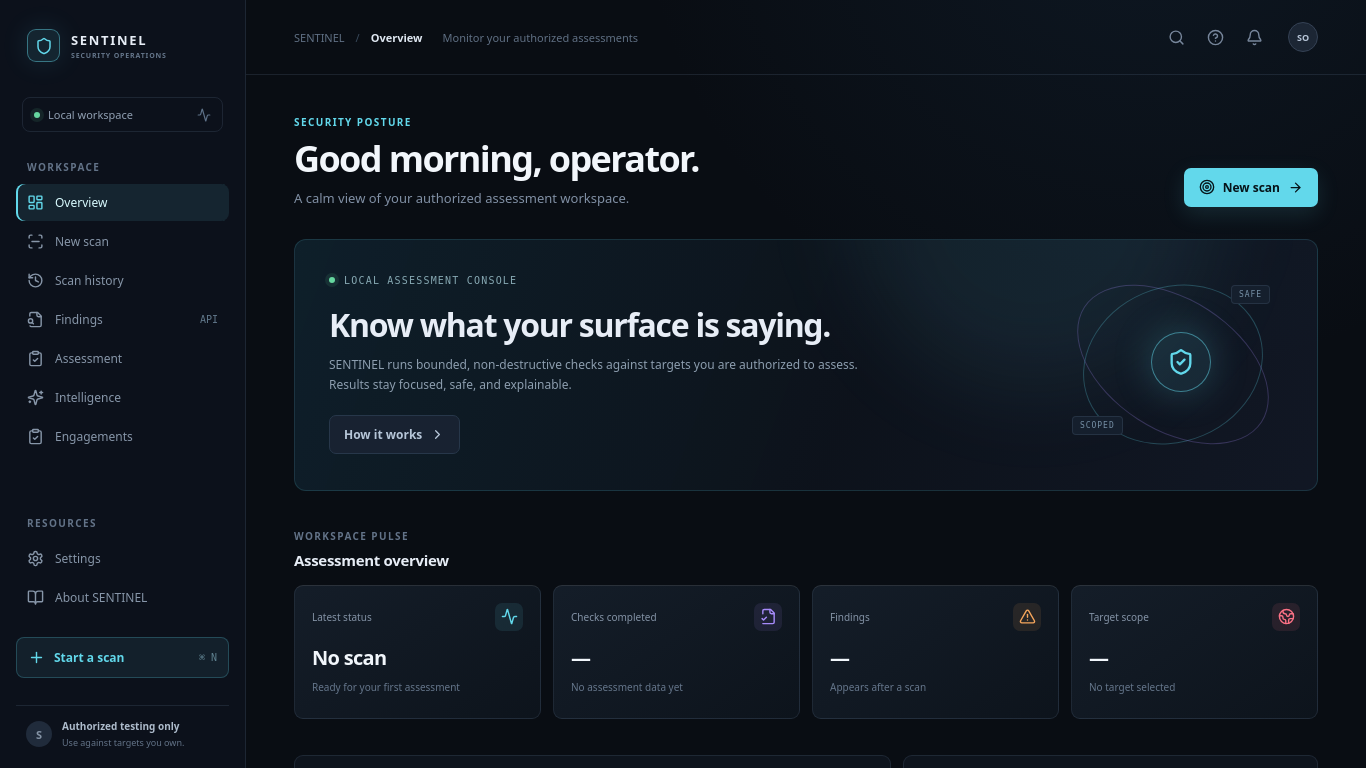
Scenario: SENTINEL dashboard flows › filters findings and supports cancellation only for active scans
Click the button "New scan" below "Local workspace".
click(122, 242)  # box [16,223,229,260]
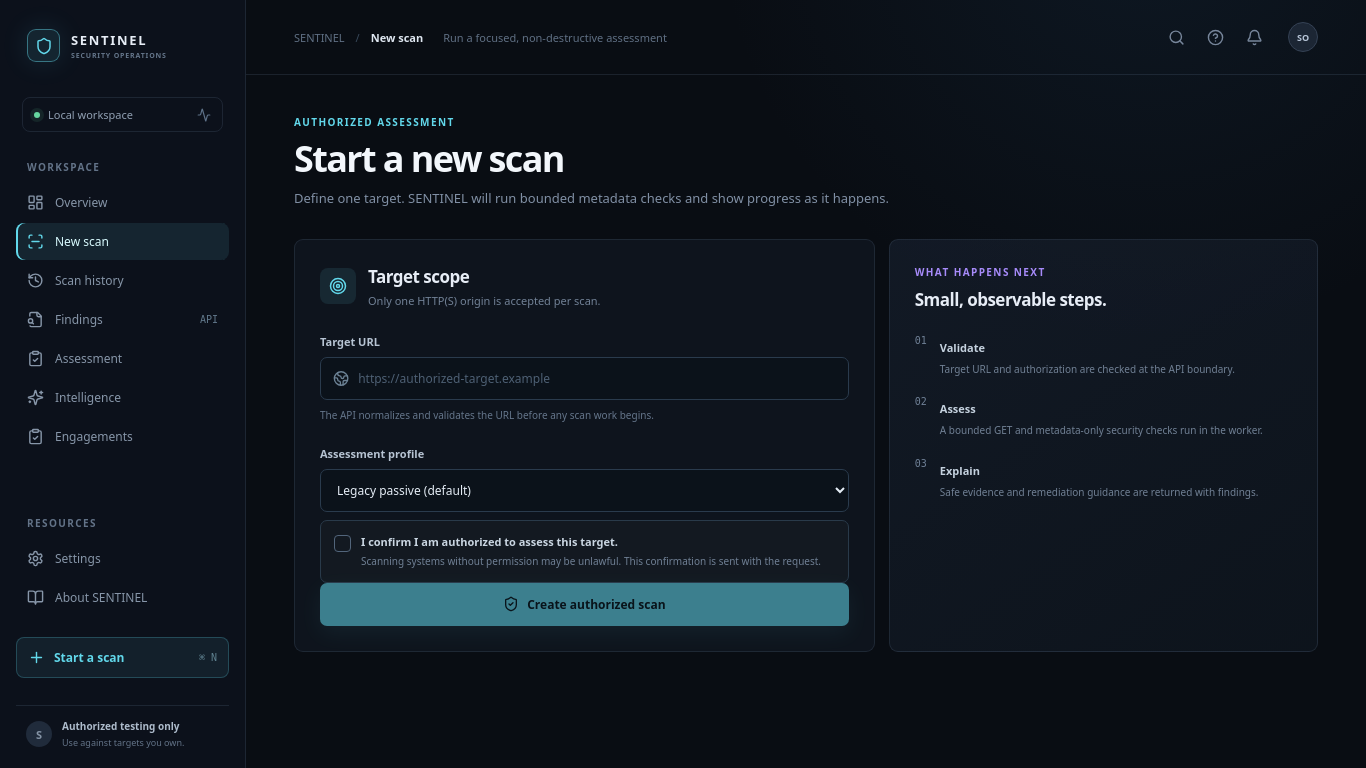
Type "https://controlled.fixture/" into the field labelled "Target URL".
click(597, 378); type("https://controlled.fixture/")  # box [358,358,836,399]
Click the checkbox.
click(584, 551)  # box [320,520,849,583]
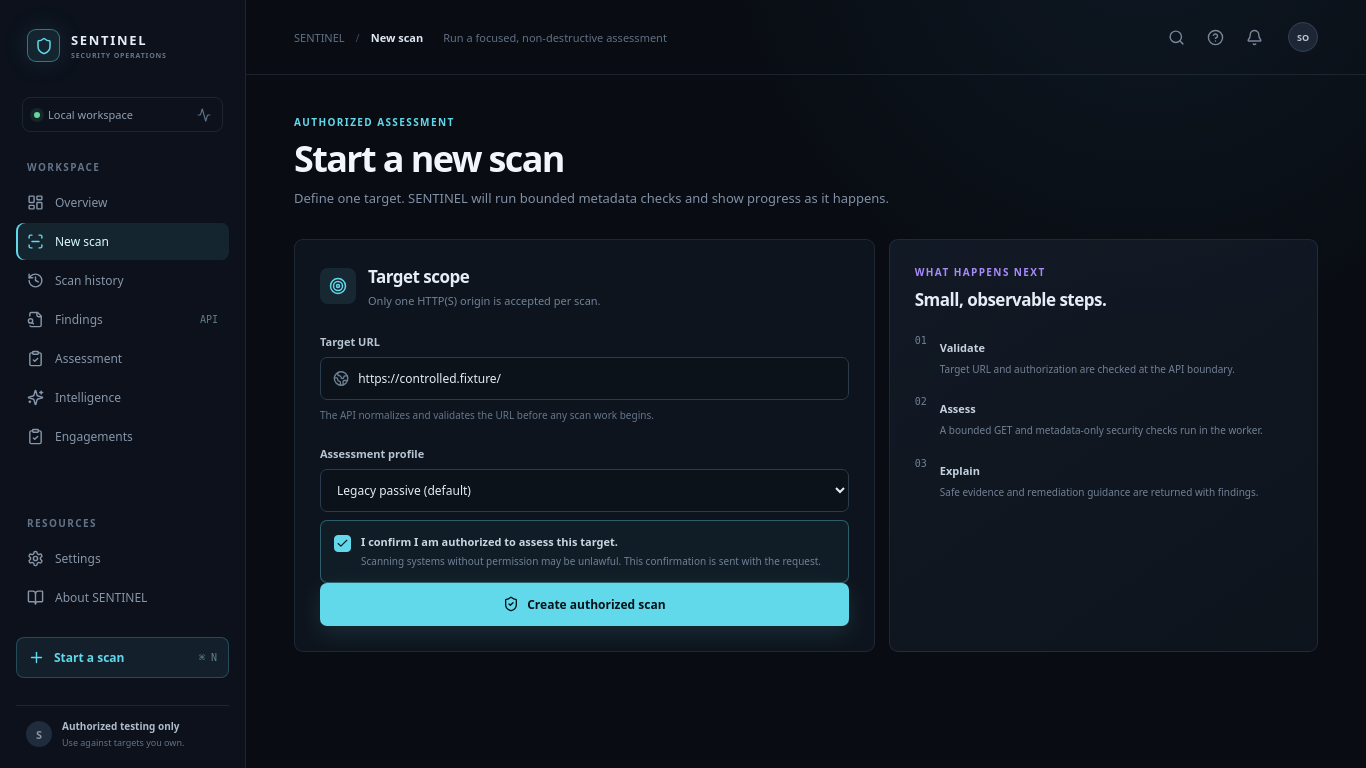
Click the button "Create authorized scan".
click(584, 604)  # box [320,583,849,626]
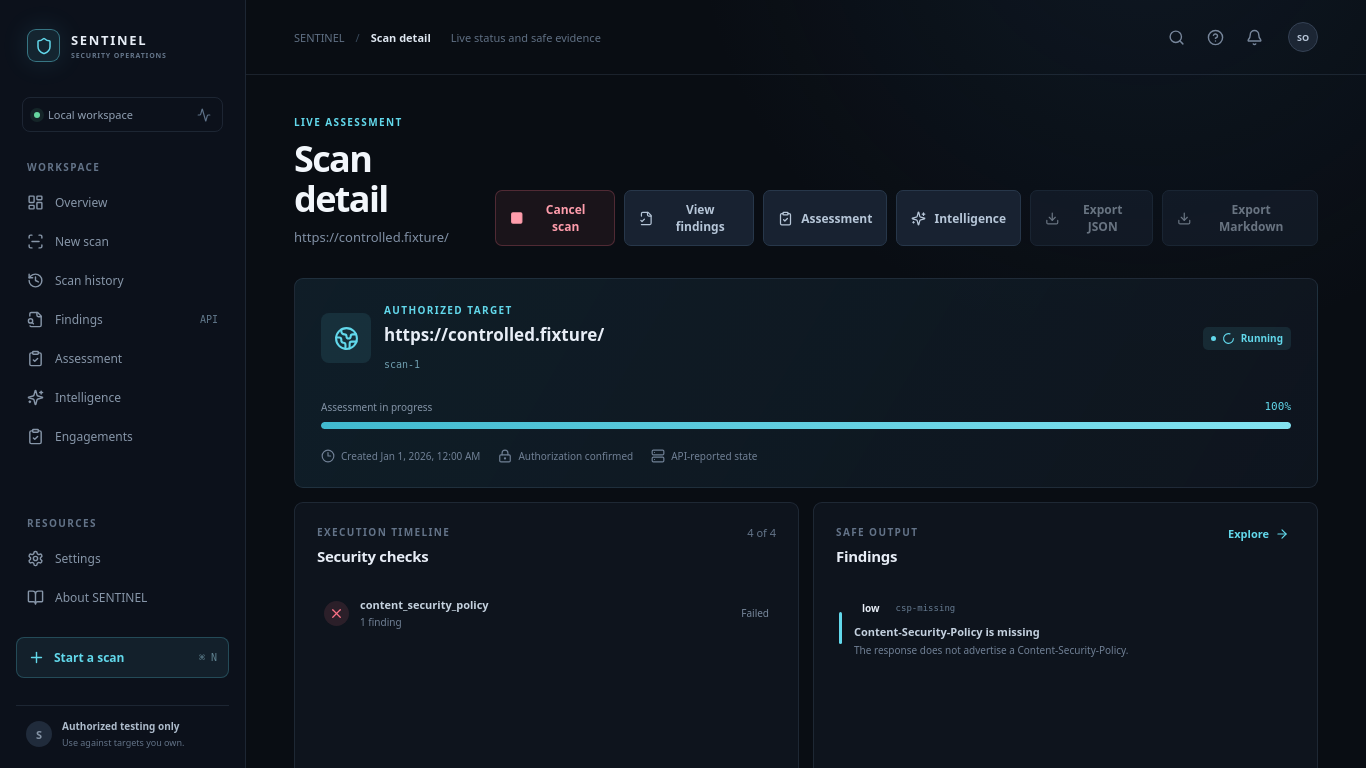
Expected: the button "Cancel scan" is shown
Click the button "Cancel scan".
click(555, 218)  # box [495,190,615,246]
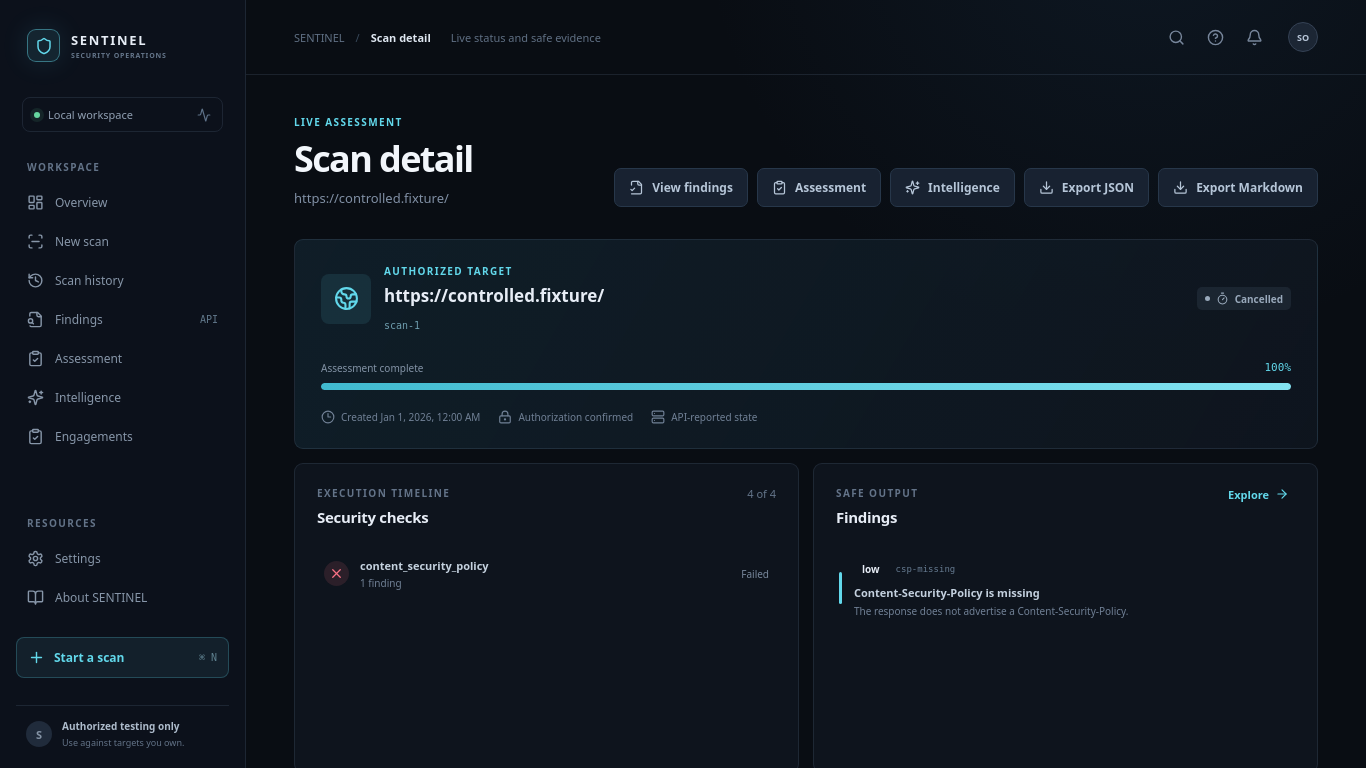
Click the button "View findings".
click(681, 187)  # box [614,168,748,207]
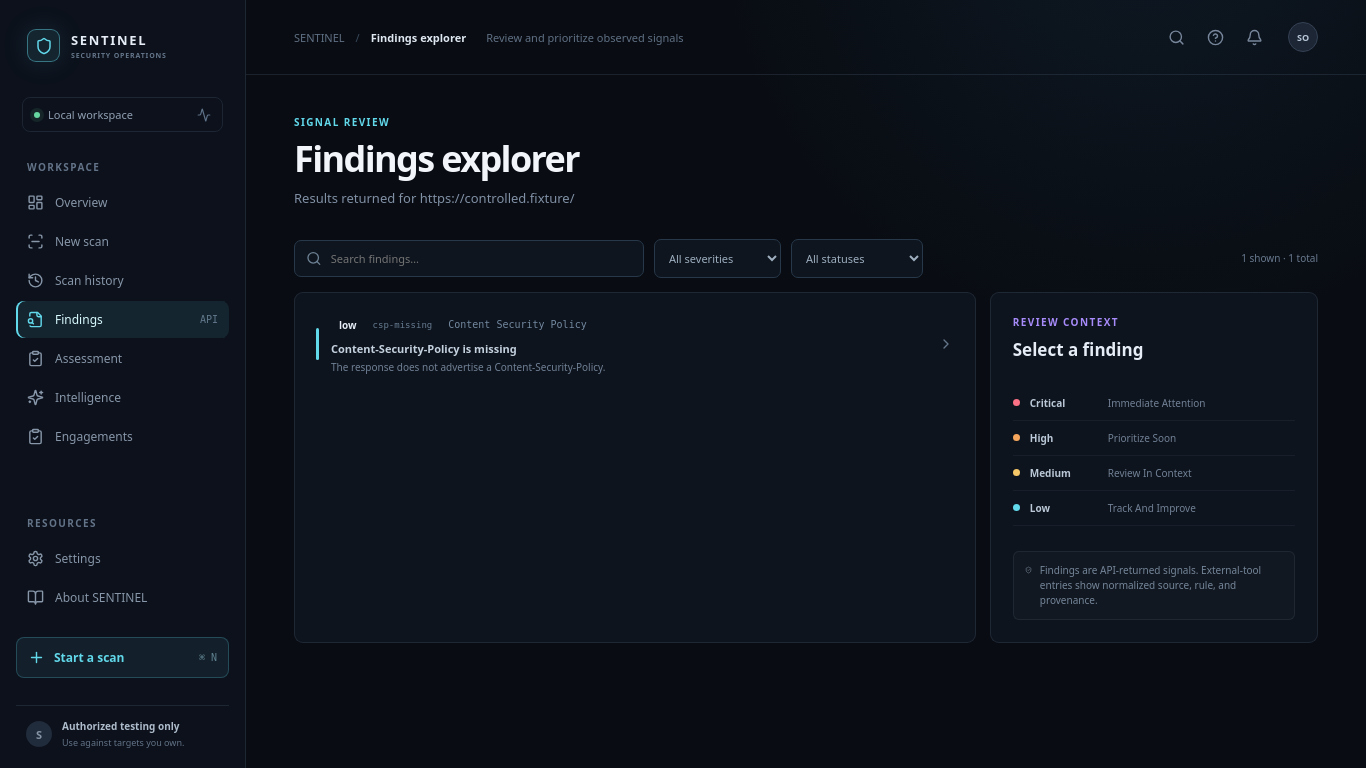
Select "High" in the dropdown named "filter by severity" at (718, 258), box [654,239,781,278]
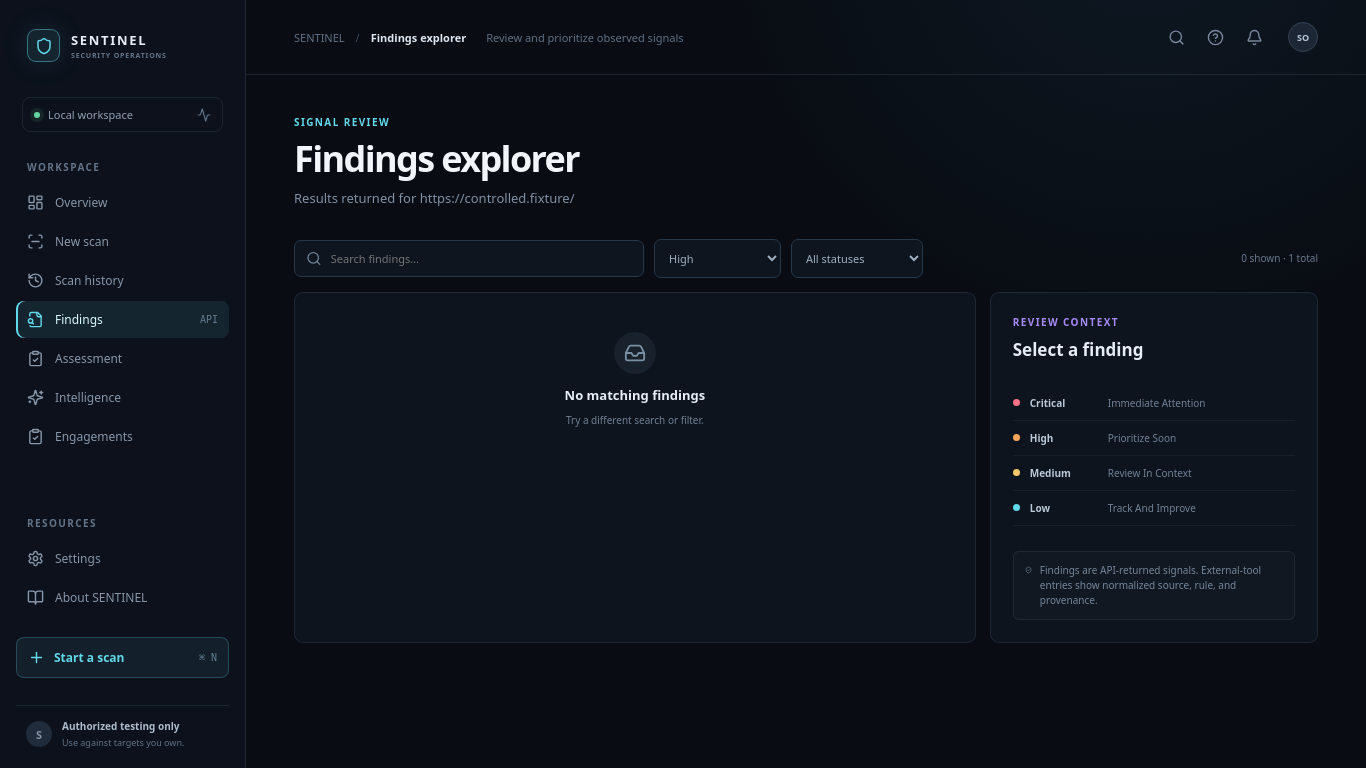
Expected: the heading "No matching findings" is shown, [565,386,705,404]
